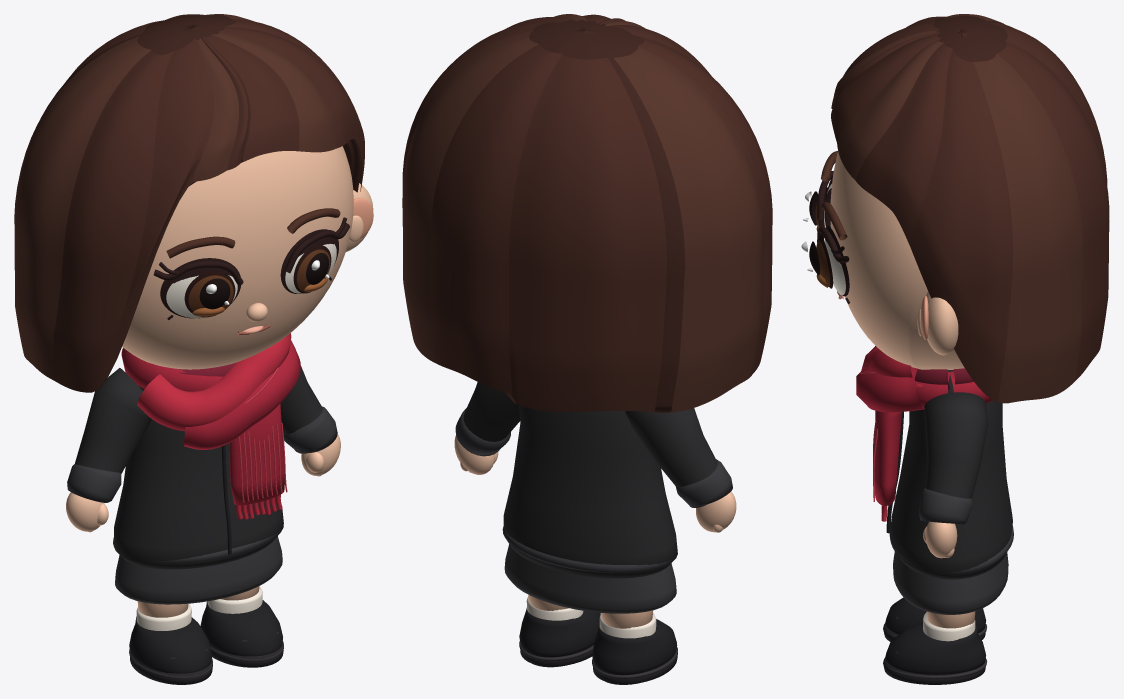
The model's file is girl.glb.
3 views of the same model, side by side, from view 1: azimuth 30°, elevation 25°; view 2: azimuth 150°, elevation 25°; view 3: azimuth 270°, elevation 25° (orthographic). The views are drawn at different scales.
Visible parts, largest first — view 1: Rounded face, Sweep 2, Sweep 1, Wool overcoat, Sweep 3, Soft charcoal skirt, Front scarf crossover, Sweep 6, Tapered sleeve, Sweep 7, Flat scarf tail, Scarf crossing fold (+28 smaller); view 2: Sweep 12, Sweep 1, Sweep 11, Wool overcoat, Sweep 10, Sculpted asymmetrical chocolate bob, Soft charcoal skirt, Tapered sleeve, Sweep 2, Leather loafer, Leather loafer.001, Tapered sleeve.001 (+11 smaller); view 3: Sweep 10, Sweep 9, Rounded face, Wool overcoat, Sweep 11, Sweep 8, Tapered sleeve.001, Soft charcoal skirt, Sweep 7, Leather loafer.001, Sweep 6, Sculpted asymmetrical chocolate bob (+18 smaller).
Part boxes in pixels (bbox=[...]): Rounded face: bbox=[122, 146, 353, 369]; Sweep 2: bbox=[53, 50, 173, 392]; Sweep 1: bbox=[14, 36, 150, 380]; Wool overcoat: bbox=[113, 386, 283, 569]; Sweep 3: bbox=[114, 39, 214, 362]; Soft charcoal skirt: bbox=[115, 536, 282, 604]; Front scarf crossover: bbox=[137, 333, 291, 431]; Sweep 6: bbox=[203, 34, 299, 161]; Tapered sleeve: bbox=[75, 368, 151, 474]; Sweep 7: bbox=[212, 32, 335, 152]; Flat scarf tail: bbox=[229, 404, 284, 505]; Scarf crossing fold: bbox=[184, 340, 300, 449]; Sweep 12: bbox=[509, 54, 666, 412]; Sweep 1: bbox=[614, 46, 764, 412]; Sweep 11: bbox=[430, 44, 562, 394]; Wool overcoat: bbox=[503, 405, 677, 578]; Sweep 10: bbox=[402, 31, 538, 363]; Sculpted asymmetrical chocolate bob: bbox=[506, 19, 684, 412]; Soft charcoal skirt: bbox=[504, 544, 676, 613]; Tapered sleeve: bbox=[625, 408, 717, 507]; Sweep 2: bbox=[634, 35, 772, 373]; Leather loafer: bbox=[592, 619, 677, 675]; Leather loafer.001: bbox=[519, 608, 600, 657]; Tapered sleeve.001: bbox=[462, 382, 520, 456]; Sweep 10: bbox=[973, 54, 1082, 403]; Sweep 9: bbox=[910, 49, 1013, 401]; Rounded face: bbox=[830, 151, 964, 369]; Wool overcoat: bbox=[890, 370, 1012, 579]; Sweep 11: bbox=[997, 41, 1109, 380]; Sweep 8: bbox=[856, 43, 952, 246]; Tapered sleeve.001: bbox=[923, 392, 987, 524]; Soft charcoal skirt: bbox=[893, 551, 1008, 614]; Sweep 7: bbox=[837, 39, 943, 180]; Leather loafer.001: bbox=[885, 622, 985, 674]; Sweep 6: bbox=[831, 34, 940, 142]; Sculpted asymmetrical chocolate bob: bbox=[838, 16, 1007, 403].
Bounding box in the file's own units: 1.12 × 1.99 × 0.8954.
